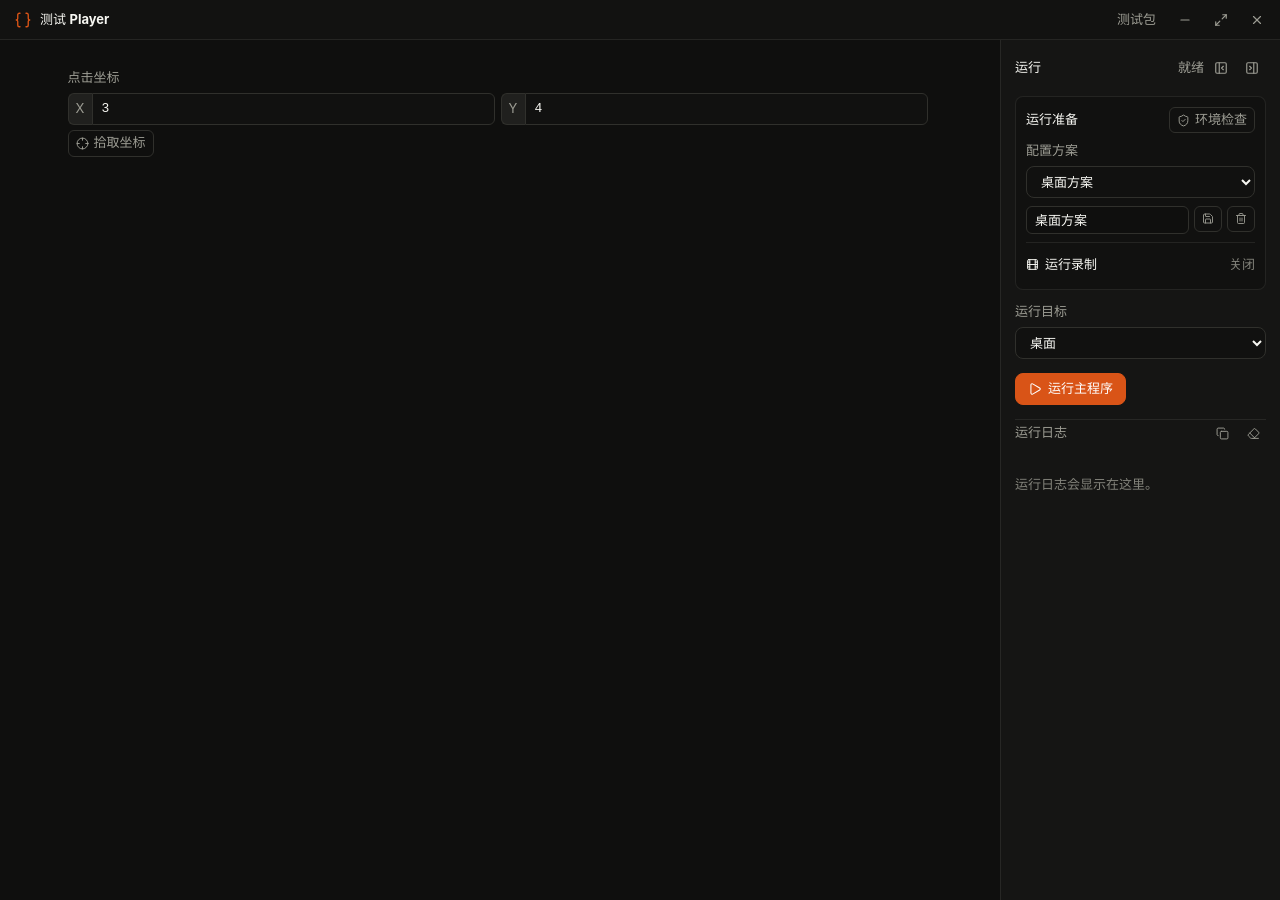
Test: VNextPlayerApp error and session lifecycle › 只显示后端许可的当前平台动作，并用原生确认原子更新方案 revision
Select "桌面方案" in the dropdown labelled "配置方案" at (1140,182), box [1026,166,1255,198]
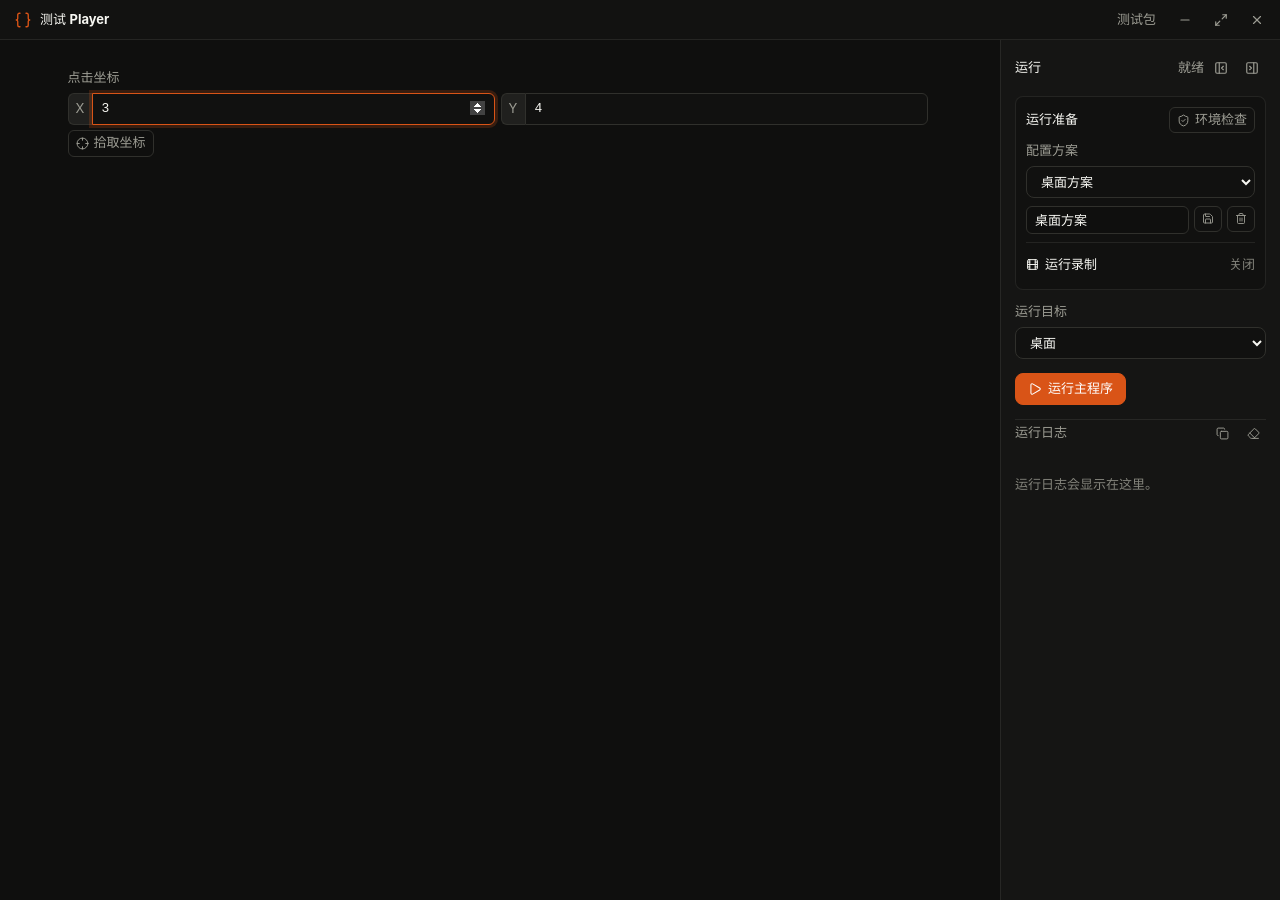
Click the button "拾取坐标" at (110,143), box [68,130,154,156]
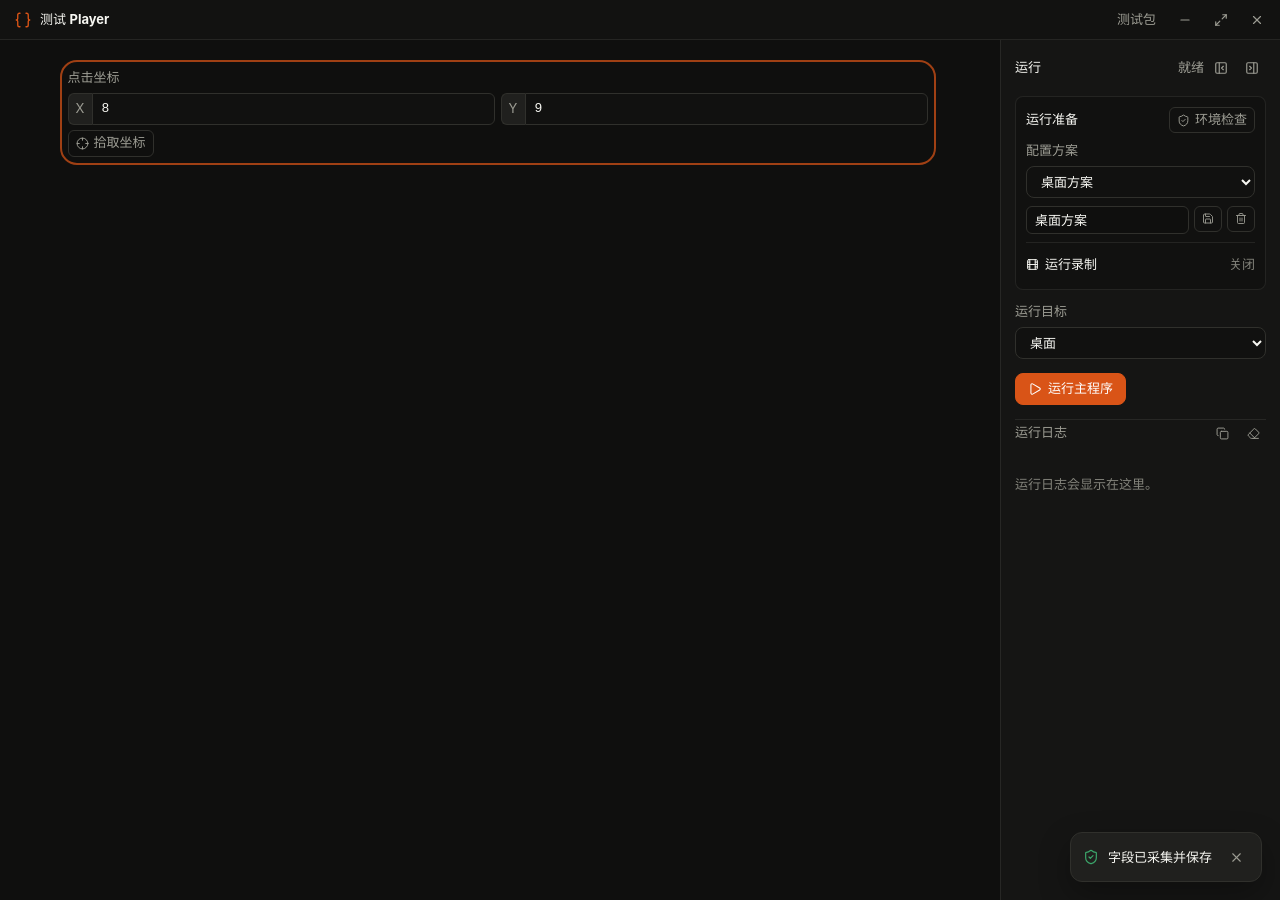
Result: the label "点击坐标 X Y 拾取坐标" has class "capture-return-highlight" at [68,68,928,156]
Select "" in the dropdown labelled "运行目标" at (1140,343), box [1015,327,1266,359]
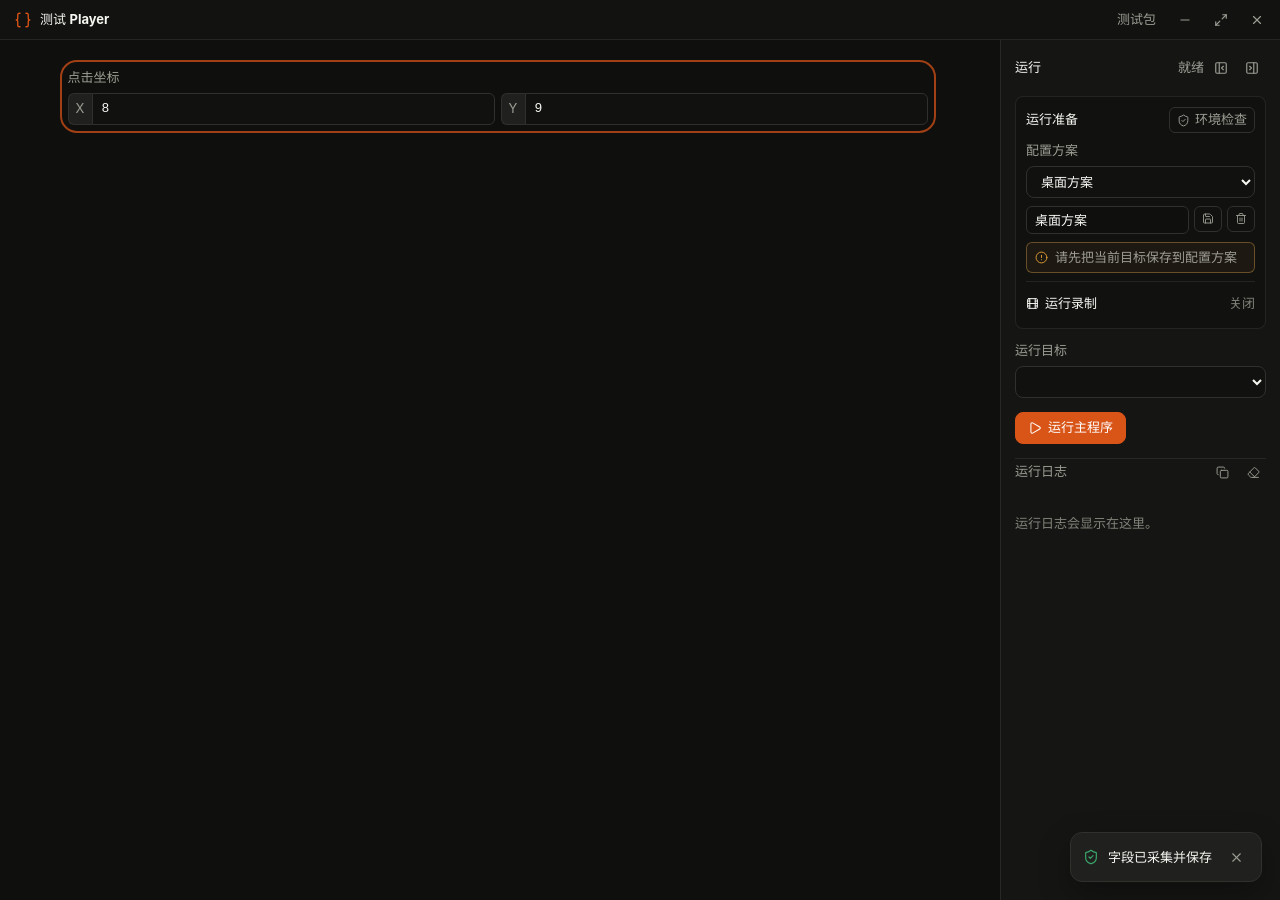
Result: the message "请先把当前目标保存到配置方案" is shown at [1026,242,1255,272]
